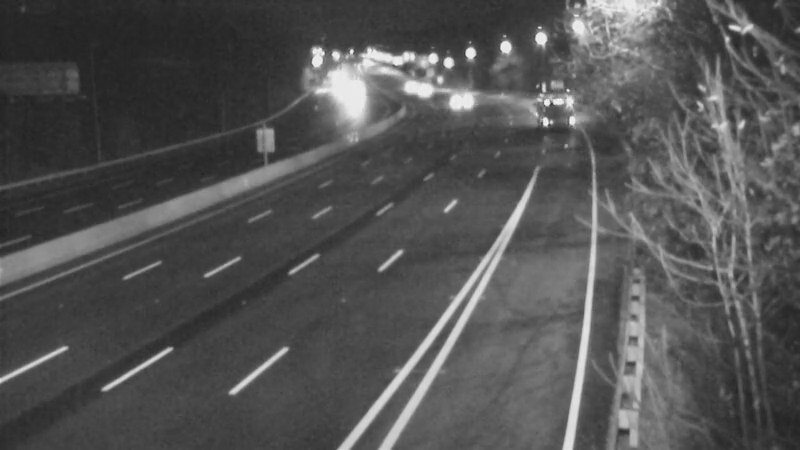vehicle: (381, 60, 431, 110), (401, 64, 451, 114), (524, 86, 574, 136), (434, 70, 484, 120), (322, 79, 372, 129)
